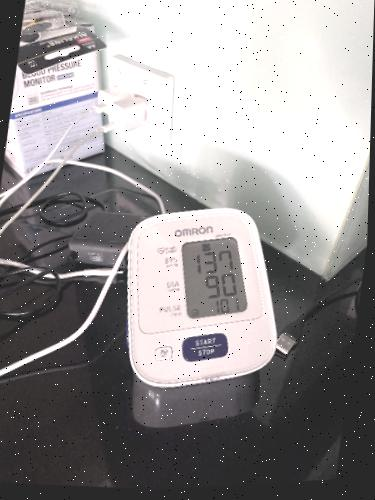bpm: (179, 235, 250, 320)
